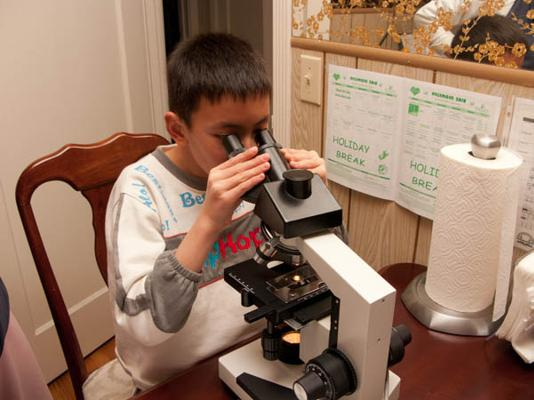person: (107, 31, 331, 390)
